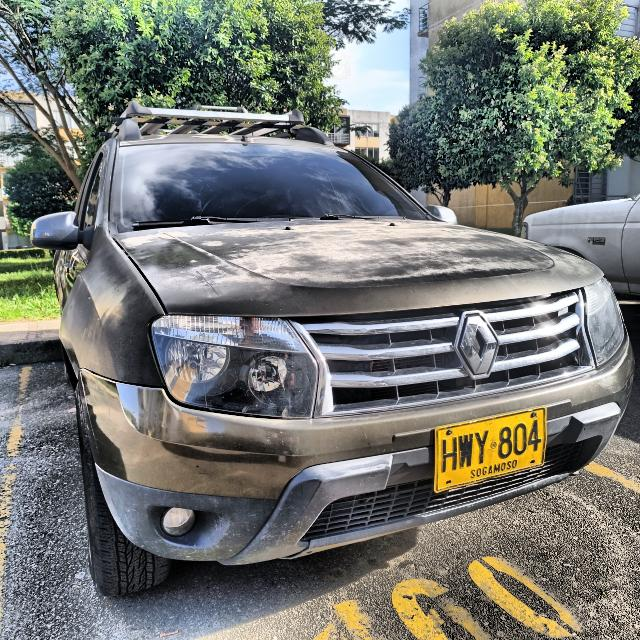plate: (436, 408, 545, 491)
